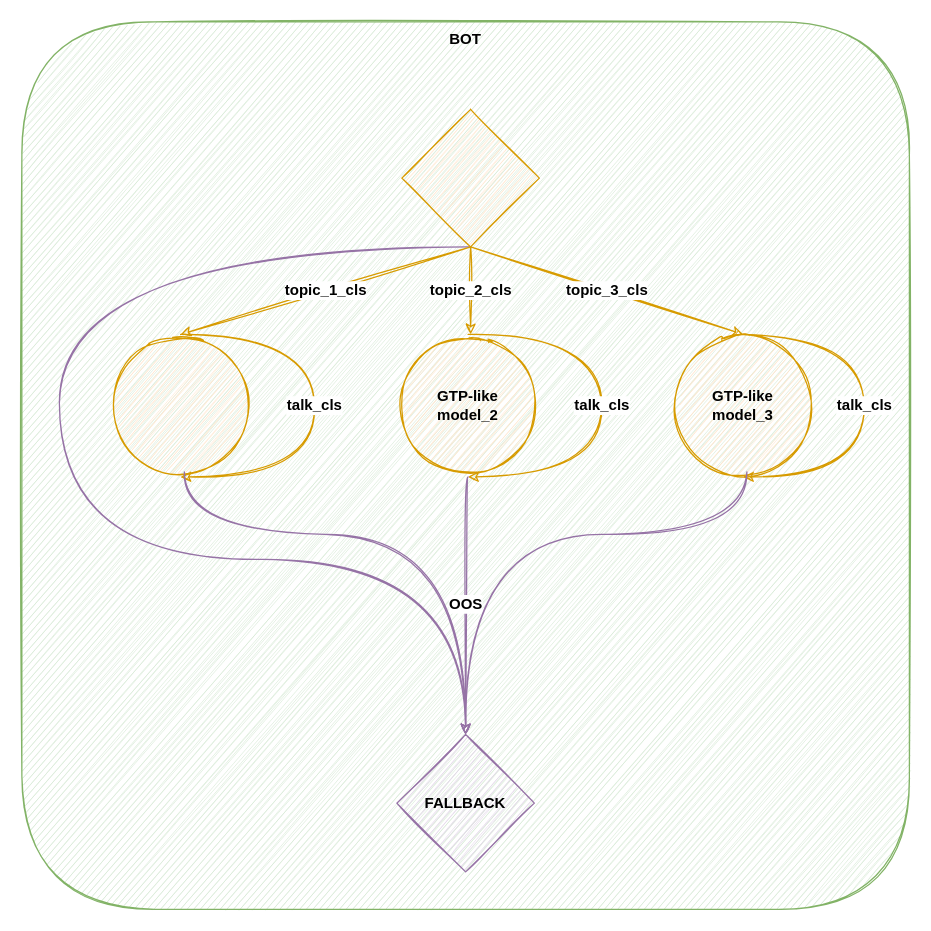
The diagram is 931 pixels wide and 931 high, and some of its shapes have lost their labels. Each missing label, with the box of its shape:
GTP-like model_1: (108, 333, 252, 477)
START: (401, 108, 539, 247)
